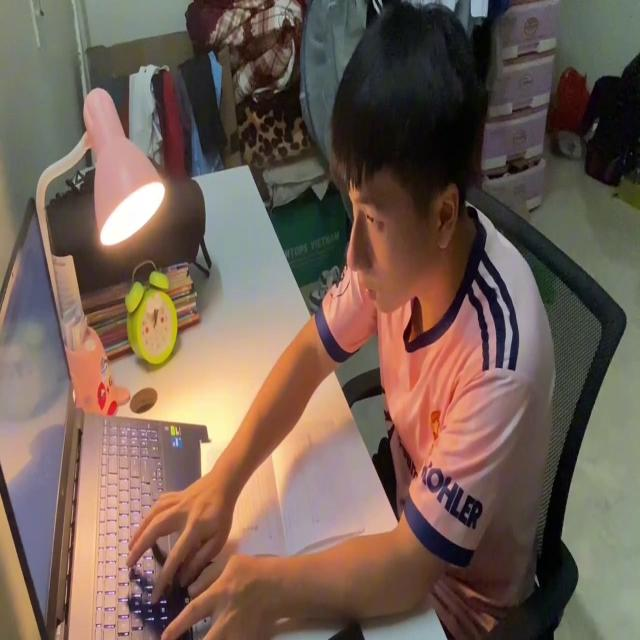book: (236, 416, 362, 550)
laptop: (0, 194, 217, 640)
student: (130, 6, 552, 640)
